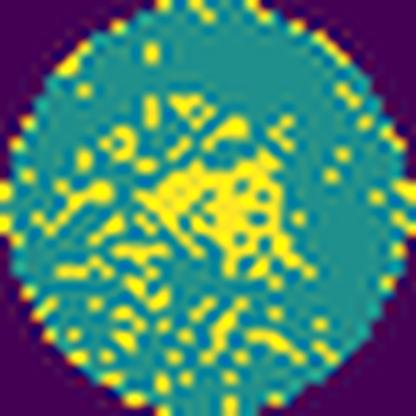Center: (134, 146, 317, 292)
